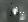person: (20, 8, 27, 20), (14, 9, 19, 16)
